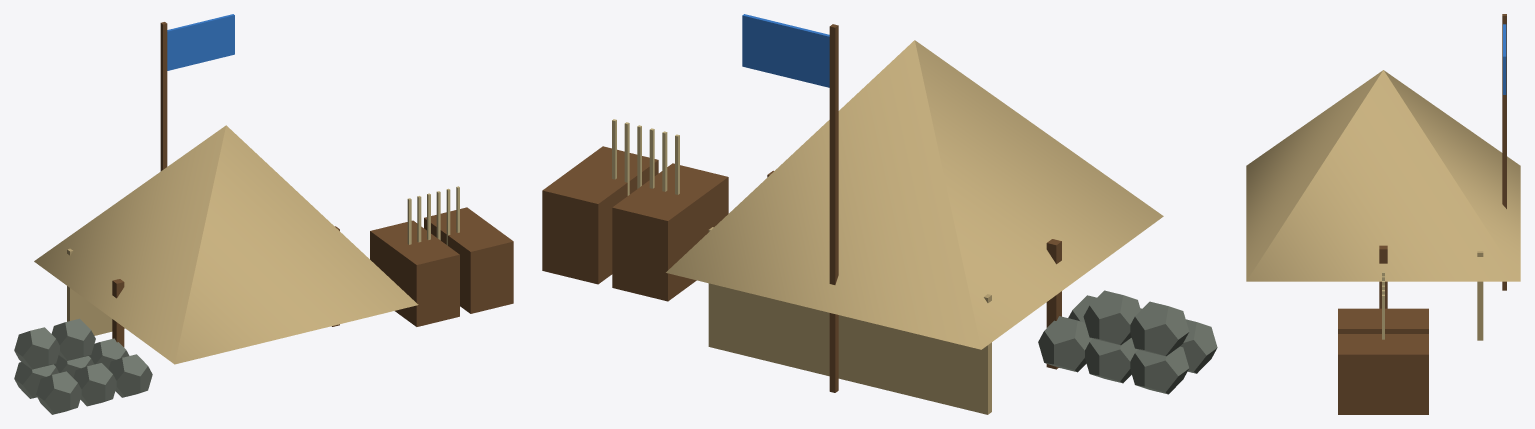
Rendered from camp_0.glb.
The picture shows the model from 3 angles, left to right: view 1: azimuth 30°, elevation 25°; view 2: azimuth 150°, elevation 25°; view 3: azimuth 270°, elevation 25°; orthographic projection. The views are drawn at different scales.
Parts seen in each view (by area): view 1: part_0, part_4, part_5, part_21, part_15, part_18, part_16, part_17, part_19, part_3, part_20, part_12 (+2 smaller); view 2: part_0, part_3, part_4, part_5, part_21, part_20, part_18, part_19, part_14, part_12, part_13, part_15 (+1 smaller); view 3: part_0, part_5, part_4, part_20, part_3, part_2, part_21.
Boxes of the visible parts, x1,y1,x2,y2 form: part_0: [34, 125, 418, 364]; part_4: [370, 220, 459, 326]; part_5: [424, 207, 513, 313]; part_21: [167, 14, 234, 70]; part_15: [36, 371, 81, 414]; part_18: [14, 327, 59, 369]; part_16: [73, 363, 116, 406]; part_17: [108, 354, 152, 397]; part_19: [51, 318, 95, 360]; part_3: [67, 248, 124, 335]; part_20: [160, 22, 167, 171]; part_12: [14, 362, 59, 398]; part_0: [666, 40, 1163, 349]; part_3: [708, 227, 991, 414]; part_4: [612, 163, 728, 301]; part_5: [542, 146, 658, 284]; part_21: [742, 14, 829, 87]; part_20: [829, 24, 838, 392]; part_18: [1130, 301, 1189, 356]; part_19: [1083, 290, 1140, 345]; part_14: [1038, 316, 1092, 372]; part_12: [1130, 346, 1189, 394]; part_13: [1085, 338, 1137, 383]; part_15: [1180, 319, 1217, 373]; part_0: [1246, 70, 1520, 281]; part_5: [1338, 334, 1428, 414]; part_4: [1338, 308, 1428, 333]; part_20: [1502, 14, 1506, 290]; part_3: [1477, 251, 1483, 340]; part_2: [1379, 245, 1387, 308]; part_21: [1503, 24, 1506, 94].
Size of the model in its own units: 8.75 by 5 by 4.53.
